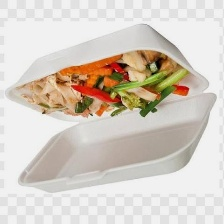foam_box: (0, 18, 222, 200)
